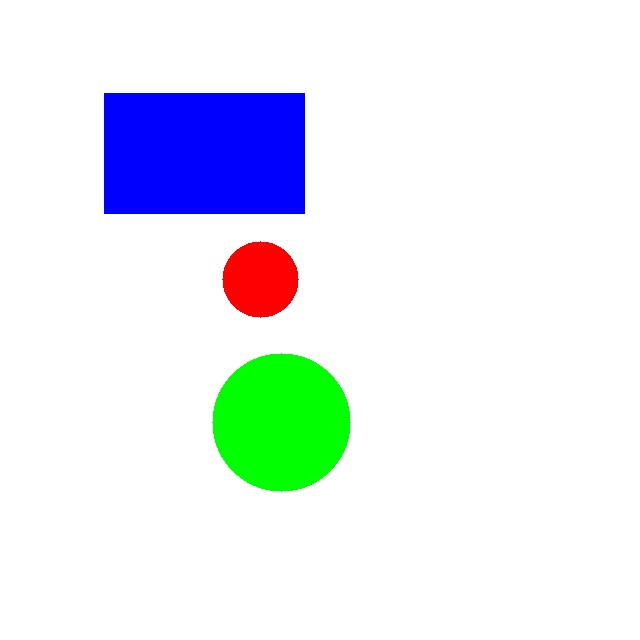cartao: (104, 93, 304, 213)
rosca_externa: (212, 353, 350, 491)
rosca_interna: (222, 241, 298, 317)
